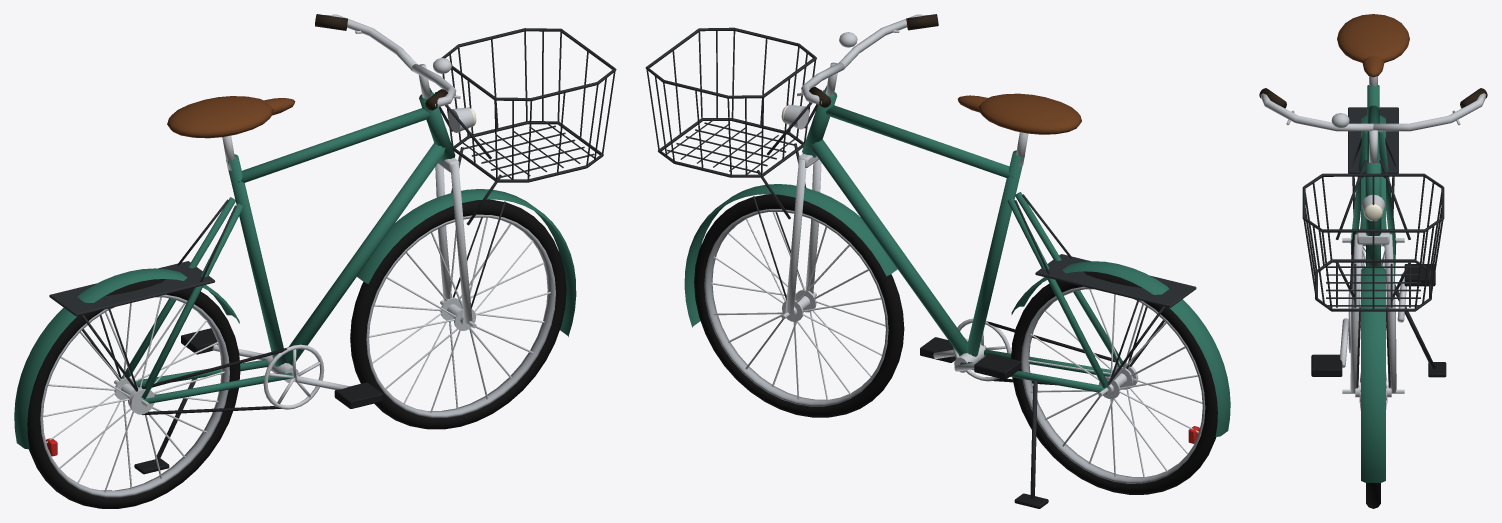
The model's file is bicycle.glb.
The picture shows the model from 3 angles, left to right: view 1: azimuth 30°, elevation 25°; view 2: azimuth 150°, elevation 25°; view 3: azimuth 270°, elevation 25°; orthographic projection. The views are drawn at different scales.
Visible parts, largest first — view 1: bicycle_bike_chrome, bicycle_bike_tire, bicycle_bike_frame, bicycle_bike_wire, bicycle_bike_fender, bicycle_bike_rim, bicycle_bike_leather, bicycle_bike_dark, bicycle_bike_grip; view 2: bicycle_bike_tire, bicycle_bike_frame, bicycle_bike_chrome, bicycle_bike_wire, bicycle_bike_fender, bicycle_bike_rim, bicycle_bike_leather, bicycle_bike_dark, bicycle_bike_grip; view 3: bicycle_bike_wire, bicycle_bike_chrome, bicycle_bike_fender, bicycle_bike_leather, bicycle_bike_frame, bicycle_bike_dark, bicycle_bike_grip, bicycle_bike_tire, bicycle_bike_lens.
Boxes of the visible parts, box(x1,y1,x2,y2) form: bicycle_bike_chrome: box(43, 14, 550, 492); bicycle_bike_tire: box(27, 199, 566, 508); bicycle_bike_frame: box(121, 91, 455, 403); bicycle_bike_wire: box(49, 28, 616, 466); bicycle_bike_fender: box(14, 189, 576, 449); bicycle_bike_rim: box(40, 214, 555, 497); bicycle_bike_leather: box(167, 96, 295, 138); bicycle_bike_dark: box(134, 328, 382, 474); bicycle_bike_grip: box(315, 14, 447, 110); bicycle_bike_tire: box(694, 194, 1217, 494); bicycle_bike_frame: box(802, 89, 1123, 393); bicycle_bike_chrome: box(711, 14, 1202, 477); bicycle_bike_wire: box(645, 27, 1196, 498); bicycle_bike_fender: box(684, 184, 1230, 436); bicycle_bike_rim: box(704, 209, 1205, 483); bicycle_bike_leather: box(957, 93, 1081, 134); bicycle_bike_dark: box(920, 321, 1122, 508); bicycle_bike_grip: box(809, 14, 938, 107); bicycle_bike_wire: box(1302, 107, 1444, 388); bicycle_bike_chrome: box(1260, 76, 1486, 410); bicycle_bike_fender: box(1361, 115, 1385, 482); bicycle_bike_leather: box(1337, 14, 1409, 77); bicycle_bike_frame: box(1350, 85, 1396, 304); bicycle_bike_dark: box(1311, 232, 1446, 377); bicycle_bike_grip: box(1259, 88, 1487, 108); bicycle_bike_tire: box(1366, 245, 1380, 508); bicycle_bike_lens: box(1364, 204, 1382, 221).
Size of the model in its own units: 1.72 by 1.12 by 0.6262.
